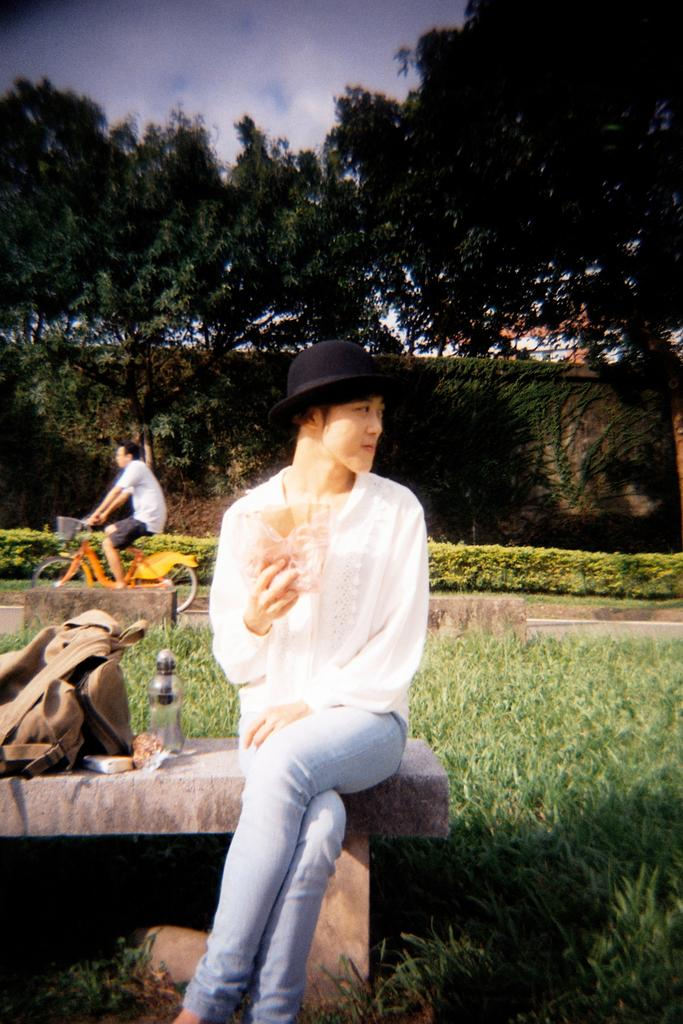Hat: (272, 342, 413, 436)
